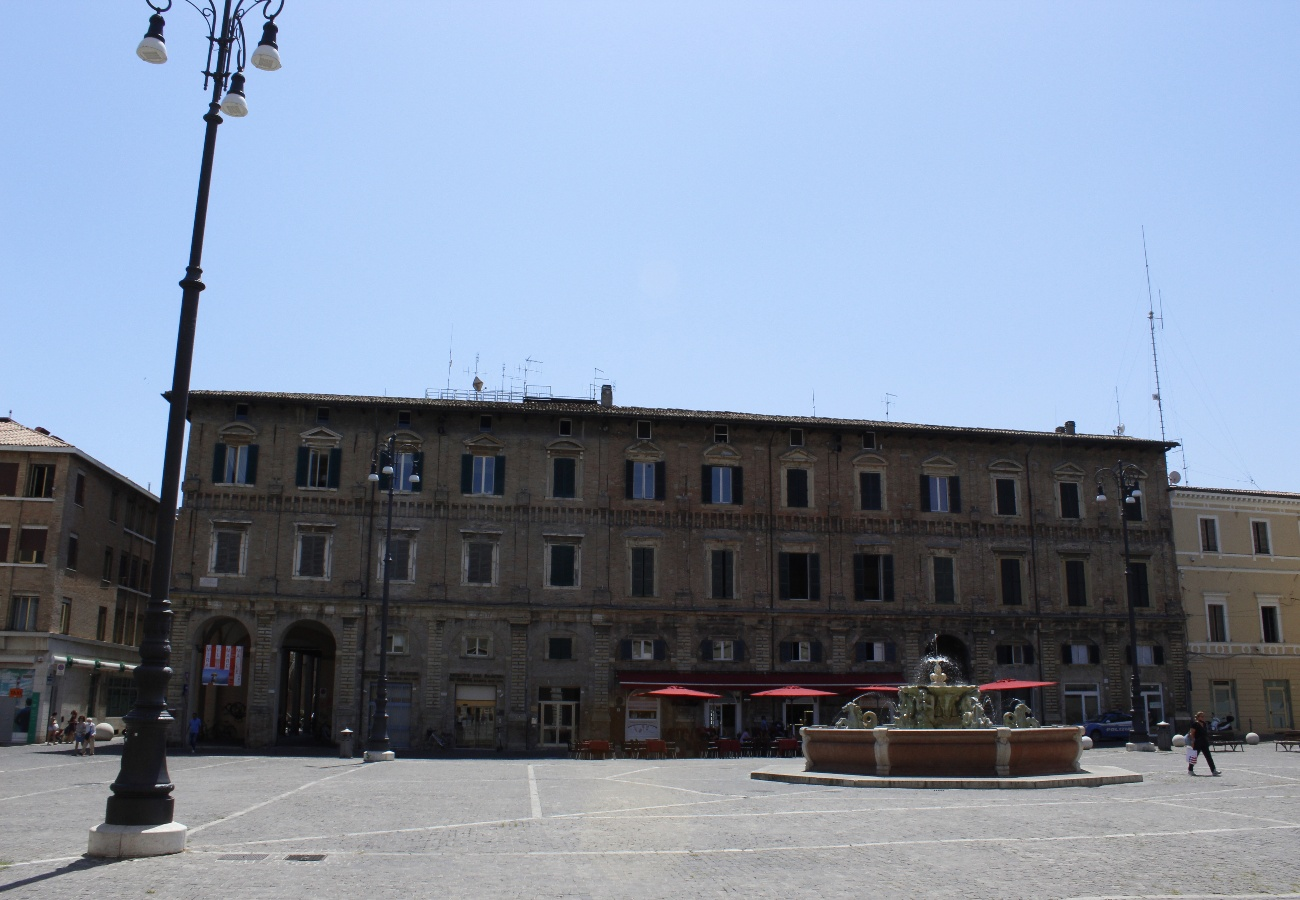Fontana Piazza del Popolo: (897, 684, 984, 731)
Palazzo Baviera: (156, 386, 1182, 752)
